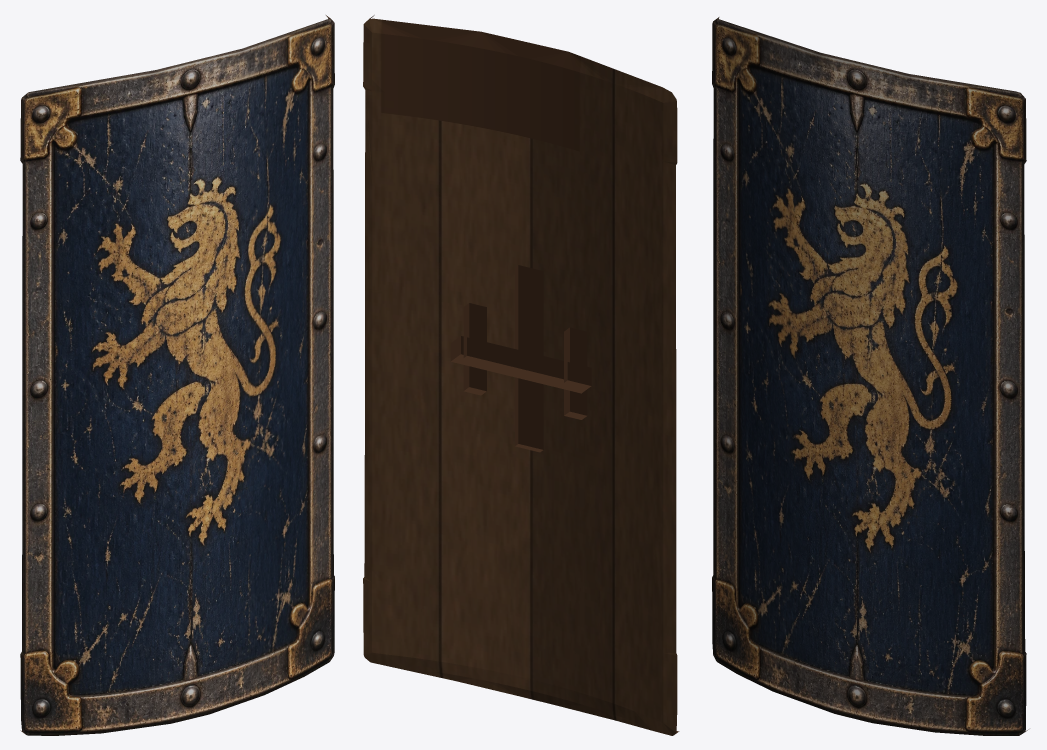
Rendered from shield-tower.glb.
The picture shows the model from 3 angles, left to right: view 1: azimuth 30°, elevation 25°; view 2: azimuth 150°, elevation 25°; view 3: azimuth 330°, elevation 25°; orthographic projection.
Parts seen in each view (by area): view 1: shield-tower; view 2: shield-tower; view 3: shield-tower.
Part boxes in pixels (bbox=[...]): shield-tower: bbox=[20, 15, 334, 735]; shield-tower: bbox=[363, 15, 679, 735]; shield-tower: bbox=[712, 17, 1028, 735].
Size of the model in its own units: 0.6254 by 1.25 by 0.0846.
1 material, 1 textured.
